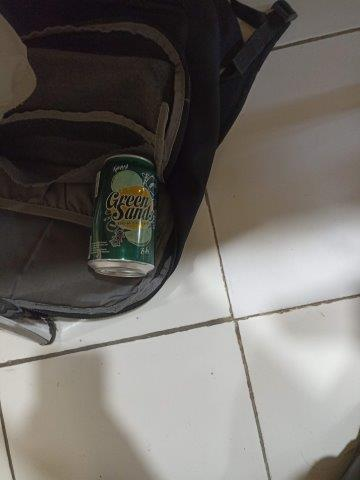kaleng: (87, 154, 155, 277)
